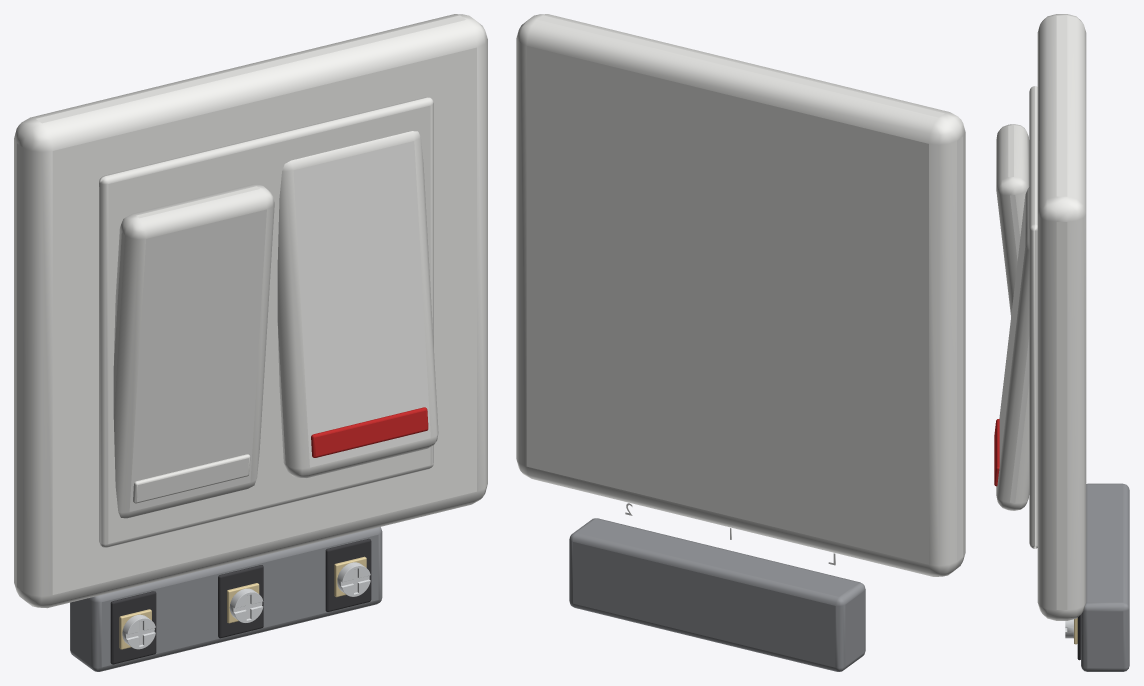
The model's file is swd_01.glb.
3 renders of one model, left to right at view 1: azimuth 30°, elevation 25°; view 2: azimuth 150°, elevation 25°; view 3: azimuth 270°, elevation 25°, orthographic. The views are drawn at different scales.
Parts seen in each view (by area): view 1: body, mech; view 2: body, mech; view 3: body, mech.
Part boxes in pixels (x1,y1,x2,y2): body: (14,14,487,608); mech: (70,527,382,671); body: (516,14,965,576); mech: (569,503,865,671); body: (994,14,1086,620); mech: (1065,483,1129,671).
Size of the model in its own units: 0.086 by 0.103 by 0.025.
